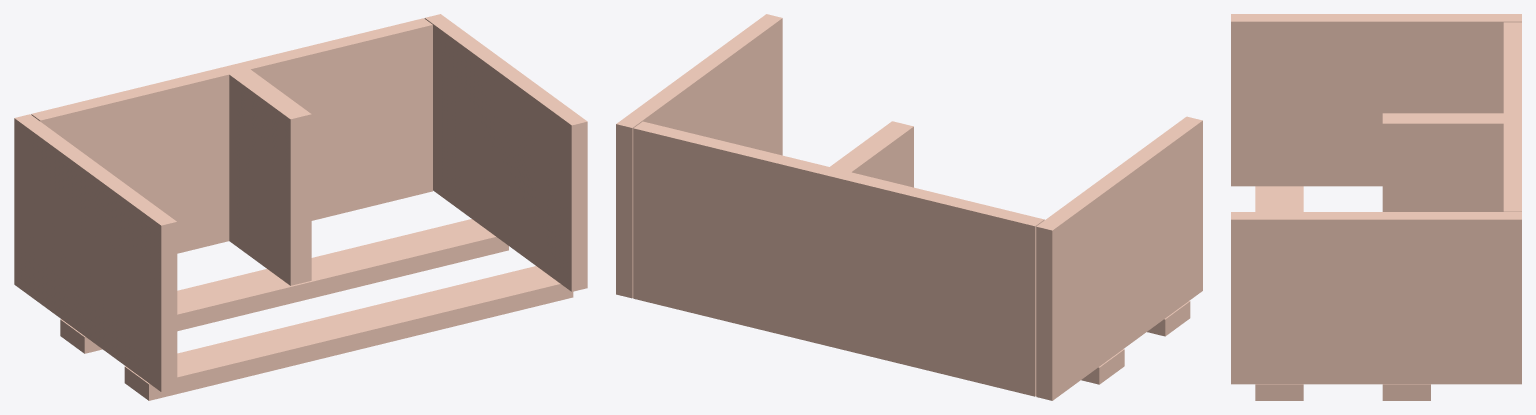
The model's file is tinker.obj.
The picture shows the model from 3 angles, left to right: view 1: azimuth 30°, elevation 25°; view 2: azimuth 150°, elevation 25°; view 3: azimuth 270°, elevation 25°; orthographic projection. The views are drawn at different scales.
Parts seen in each view (by area): view 1: obj_0; view 2: obj_0; view 3: obj_0.
Part boxes in pixels (<box>): obj_0: <box>14,14,587,400</box>; obj_0: <box>616,14,1202,400</box>; obj_0: <box>1231,14,1521,400</box>.
Size of the model in its own units: 402 by 166 by 240.
